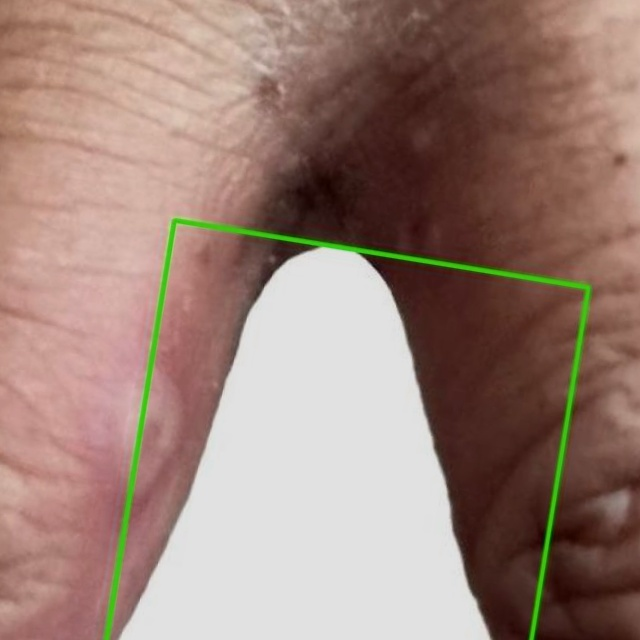Scabies: (106, 220, 588, 639)
